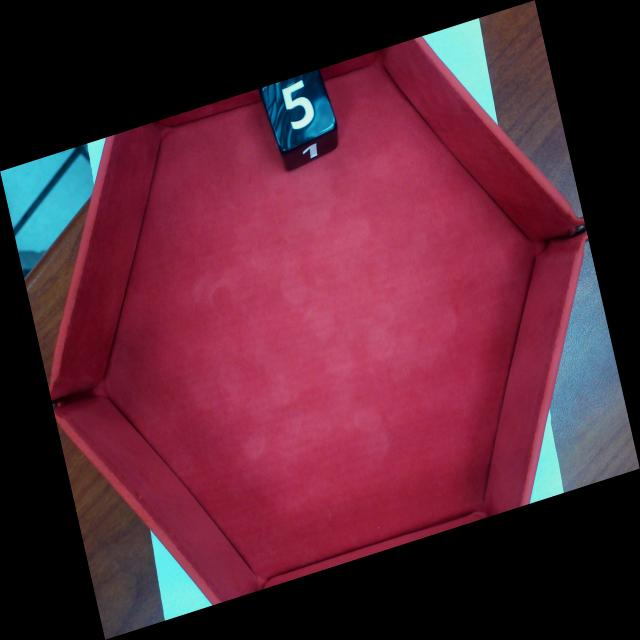dice: (259, 69, 338, 154)
